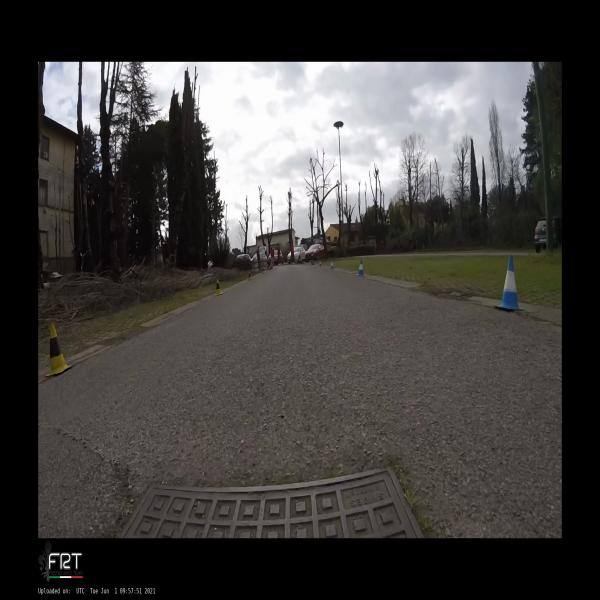blue_cone: (493, 255, 525, 311), (357, 260, 365, 276), (331, 261, 333, 269), (320, 260, 322, 266)
yellow_cone: (45, 324, 73, 376), (214, 279, 223, 296), (248, 271, 252, 280)
